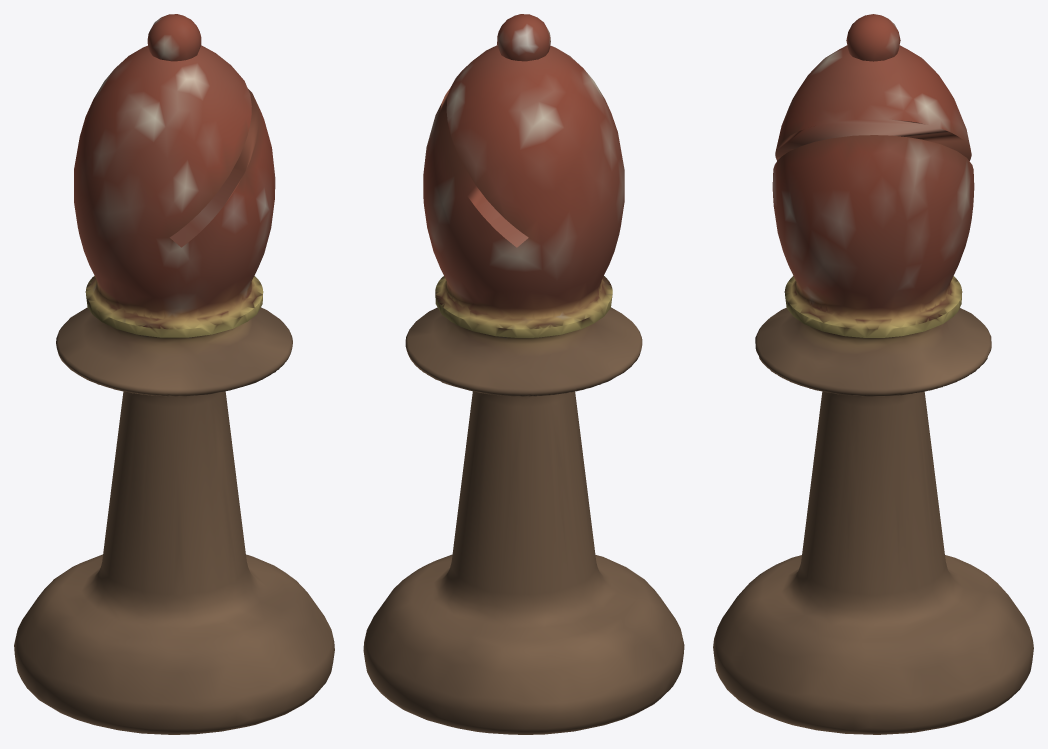
Rendered from bishop-dark.glb.
3 renders of one model, left to right at view 1: azimuth 30°, elevation 25°; view 2: azimuth 150°, elevation 25°; view 3: azimuth 270°, elevation 25°, orthographic.
Visible parts, largest first — view 1: body; view 2: body; view 3: body.
Part boxes in pixels (<box>): body: <box>14,14,334,734</box>; body: <box>363,14,684,734</box>; body: <box>713,14,1033,734</box>.
Bounding box in the file's own units: 2.04 × 4.62 × 2.04.
